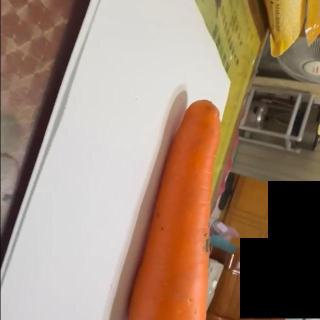carrot: (126, 99, 221, 320)
